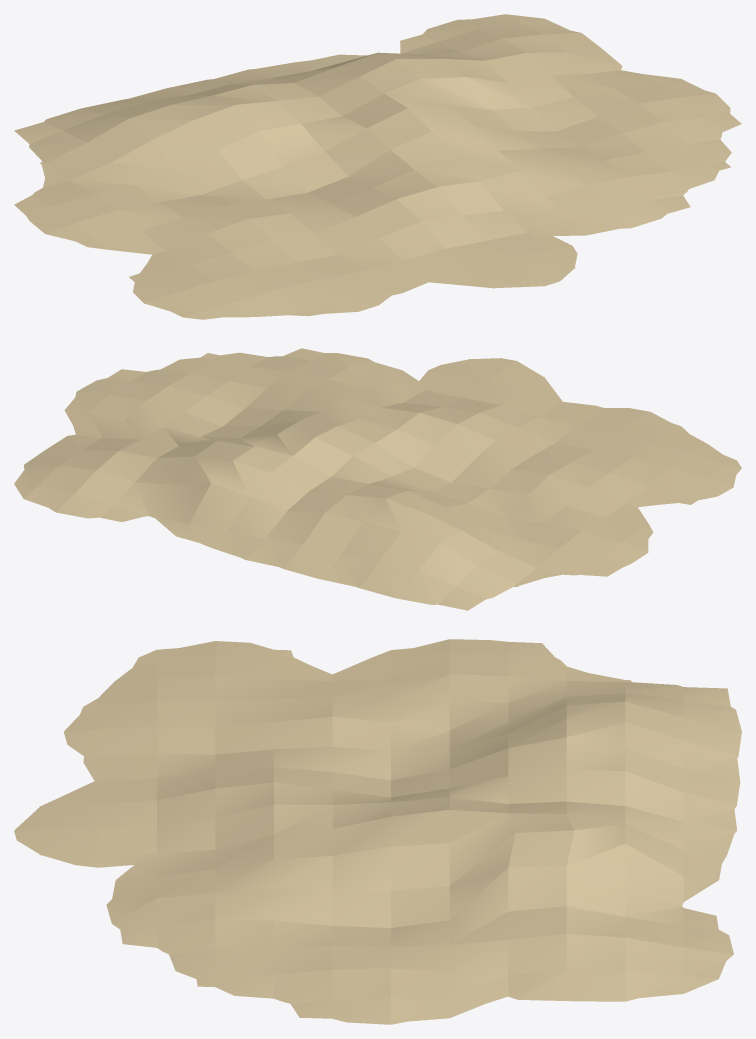
Rendered from pietragrande4.fbx.
3 renders of one model, top to bottom at view 1: azimuth 30°, elevation 25°; view 2: azimuth 150°, elevation 25°; view 3: azimuth 270°, elevation 25°, orthographic. The views are drawn at different scales.
Visible parts, largest first — view 1: Uneven_Ground_Dirt_01; view 2: Uneven_Ground_Dirt_01; view 3: Uneven_Ground_Dirt_01.
Part boxes in pixels (bbox=[...]): Uneven_Ground_Dirt_01: bbox=[14, 14, 741, 319]; Uneven_Ground_Dirt_01: bbox=[14, 348, 741, 610]; Uneven_Ground_Dirt_01: bbox=[14, 639, 741, 1024].
Size of the model in its own units: 1473 by 86.07 by 1175.
